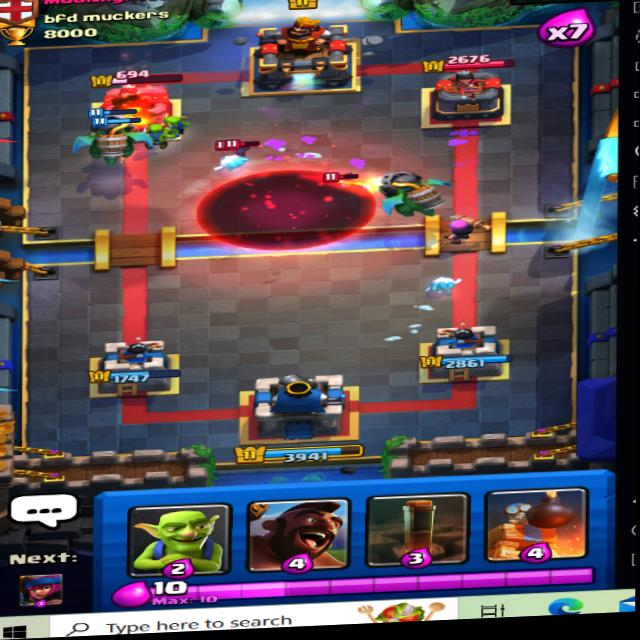Icespirit: (210, 143, 254, 180)
Void: (200, 169, 377, 254)
